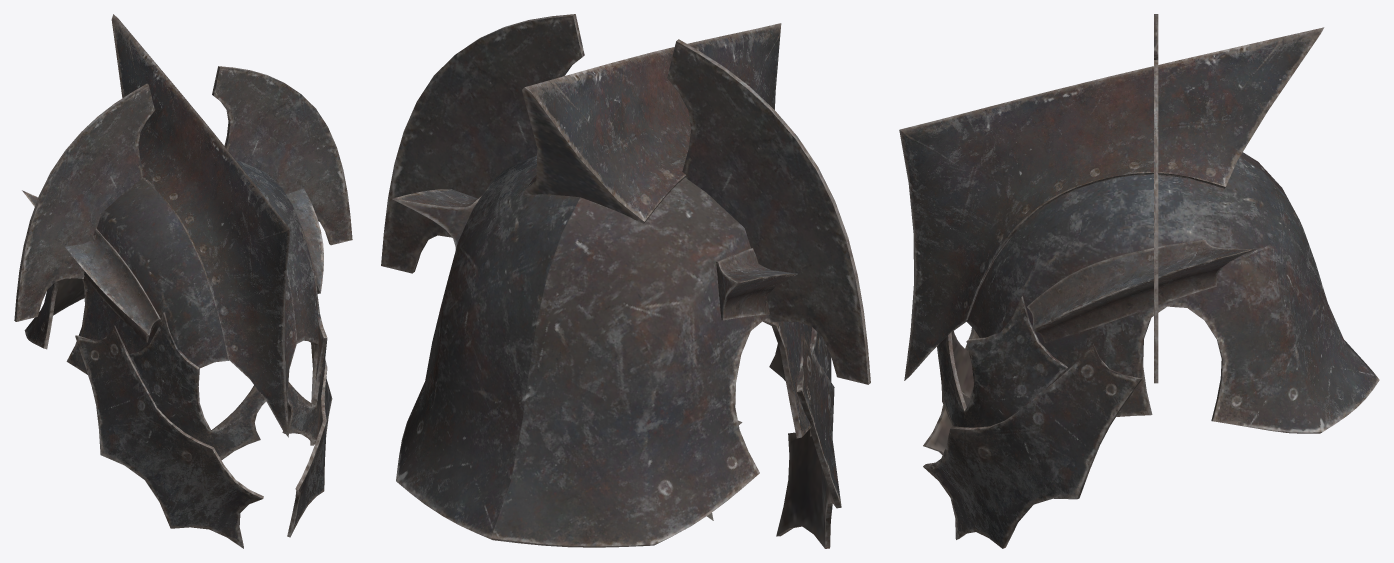
File: sk_dg_uruk_helmet_lord_b.fbx
3 views of the same model, side by side, from view 1: azimuth 30°, elevation 25°; view 2: azimuth 150°, elevation 25°; view 3: azimuth 270°, elevation 25° (orthographic). The views are drawn at different scales.
Visible parts, largest first — view 1: sk_dg_uruk_helmet_lord_b; view 2: sk_dg_uruk_helmet_lord_b; view 3: sk_dg_uruk_helmet_lord_b.
Boxes of the visible parts, x1,y1,x2,y2 form: sk_dg_uruk_helmet_lord_b: [14, 14, 352, 548]; sk_dg_uruk_helmet_lord_b: [381, 14, 870, 548]; sk_dg_uruk_helmet_lord_b: [899, 14, 1379, 548].
Size of the model in its own units: 0.3252 by 0.3357 by 0.385.
1 material, 1 textured.
